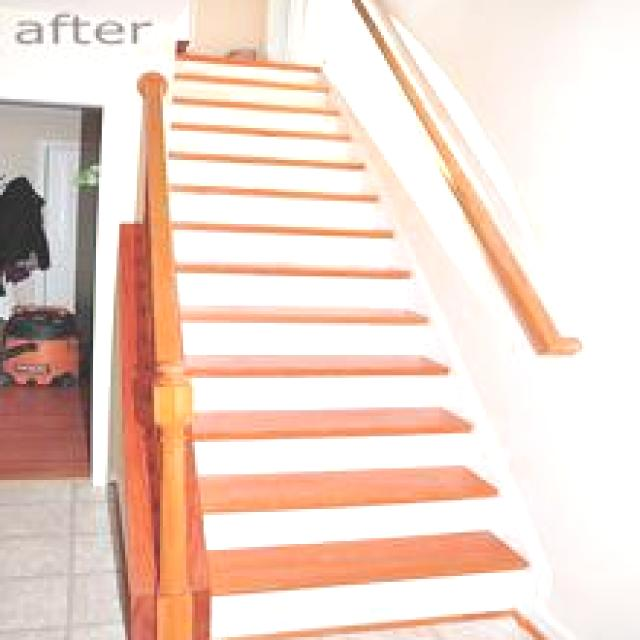upstair: (199, 472, 568, 640)
